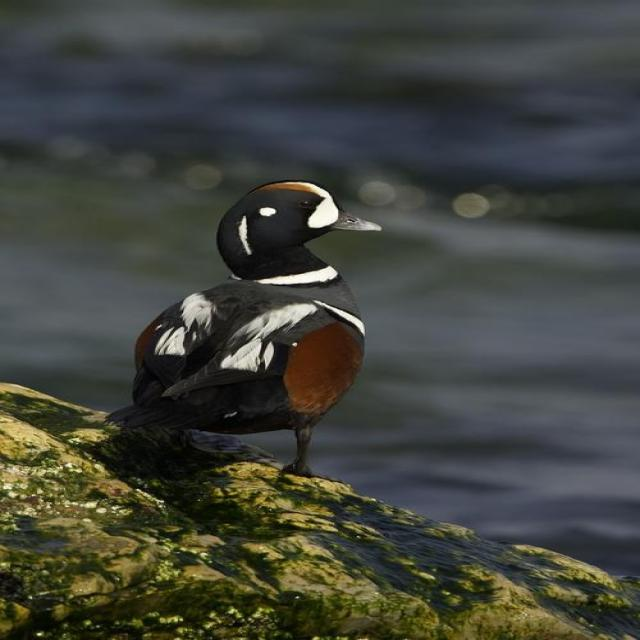bird: (109, 180, 398, 490)
